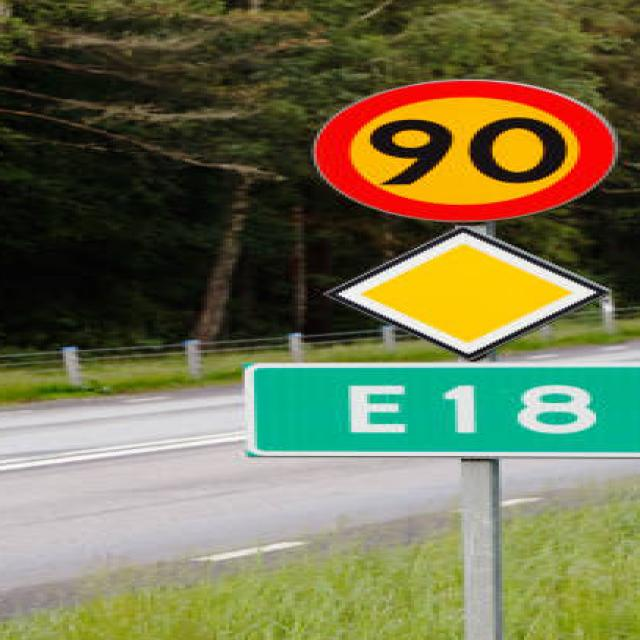Speed Limit -90-: (312, 80, 618, 224)
